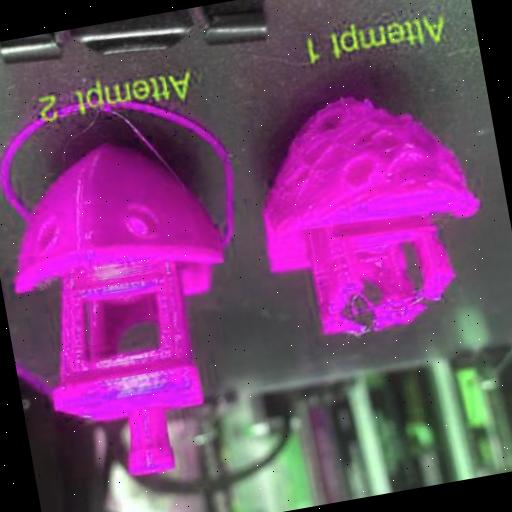spaghetti: (347, 282, 424, 324)
